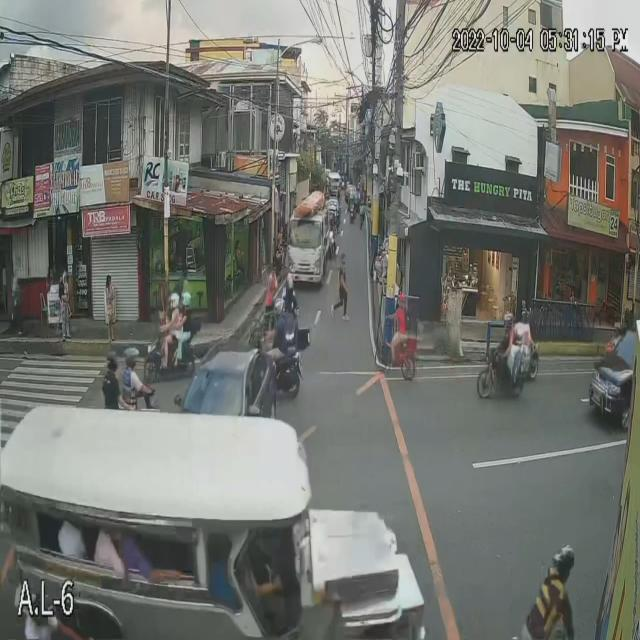full: (123, 345, 139, 368), (106, 348, 118, 373), (274, 296, 285, 318), (503, 312, 513, 331)
half: (182, 290, 192, 307), (169, 293, 180, 308)
